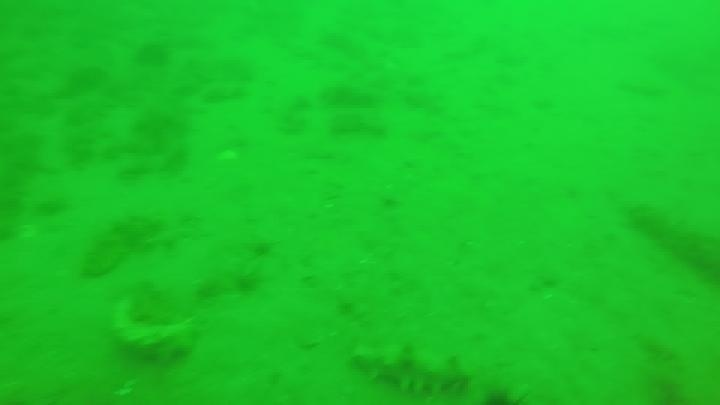echinus: (132, 42, 172, 72)
holothurian: (628, 202, 719, 283), (349, 341, 472, 398)
